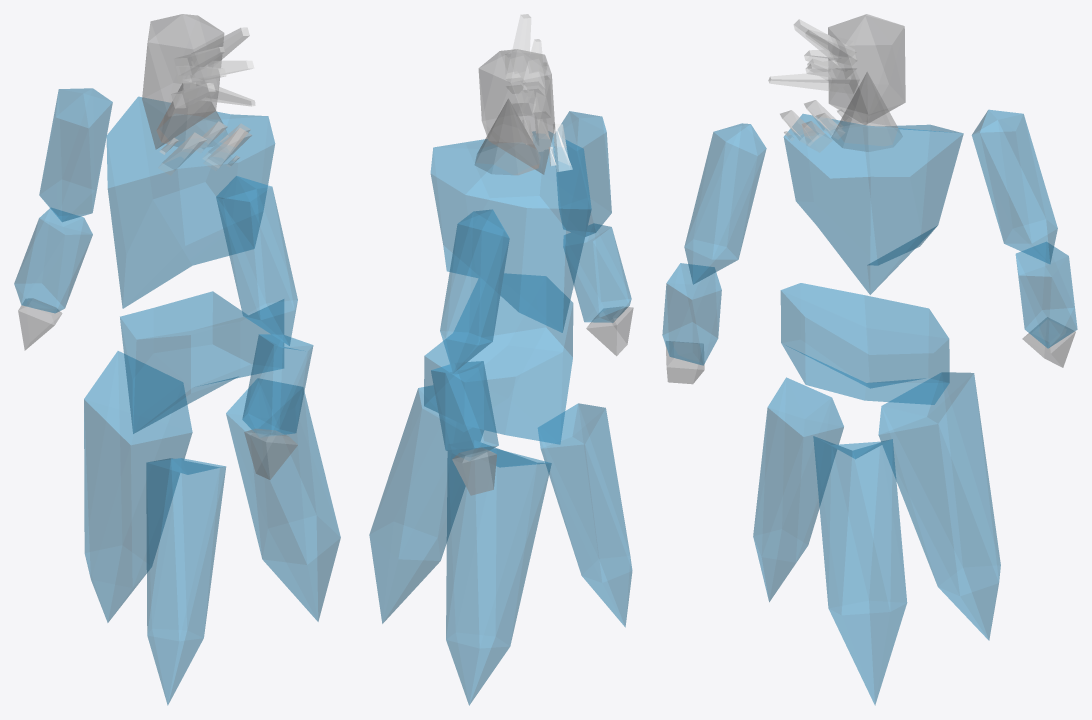
File: ghostIdle4.obj
The picture shows the model from 3 angles, left to right: view 1: azimuth 30°, elevation 25°; view 2: azimuth 150°, elevation 25°; view 3: azimuth 270°, elevation 25°; orthographic projection. The views are drawn at different scales.
Visible parts, largest first — view 1: Cube.001_Cube.001, Icosphere.005, Icosphere.004, Cube_Cube.002, Icosphere.003, Icosphere.005_Icosphere.001, Icosphere.003_Icosphere.001, Icosphere.007_Icosphere.001, Icosphere.006_Icosphere.001, Icosphere.008_Icosphere.001, Cone_Cone.002, Cube.002_Cube.001 (+8 smaller); view 2: Cube.001_Cube.001, Cube_Cube.002, Icosphere.005, Icosphere.004, Icosphere.003, Icosphere.007_Icosphere.001, Icosphere.003_Icosphere.001, Icosphere.005_Icosphere.001, Icosphere.008_Icosphere.001, Icosphere.006_Icosphere.001, Cone_Cone.002, Cube.003_Cube.001 (+6 smaller); view 3: Cube.001_Cube.001, Icosphere.005, Icosphere.004, Cube_Cube.002, Icosphere.003, Icosphere.005_Icosphere.001, Icosphere.007_Icosphere.001, Icosphere.003_Icosphere.001, Icosphere.006_Icosphere.001, Icosphere.008_Icosphere.001, Cone_Cone.002, Cube.003_Cube.001 (+4 smaller).
Boxes of the visible parts, x1,y1,x2,y2 form: Cube.001_Cube.001: [106, 96, 275, 308]; Icosphere.005: [84, 351, 192, 622]; Icosphere.004: [226, 378, 340, 621]; Cube_Cube.002: [120, 291, 283, 433]; Icosphere.003: [146, 458, 225, 705]; Icosphere.005_Icosphere.001: [216, 176, 297, 345]; Icosphere.003_Icosphere.001: [142, 14, 224, 149]; Icosphere.007_Icosphere.001: [39, 88, 112, 221]; Icosphere.006_Icosphere.001: [242, 334, 313, 437]; Icosphere.008_Icosphere.001: [14, 208, 92, 313]; Cone_Cone.002: [157, 83, 227, 147]; Cube.002_Cube.001: [244, 429, 297, 479]; Cube.001_Cube.001: [430, 131, 591, 332]; Cube_Cube.002: [424, 273, 573, 444]; Icosphere.005: [446, 440, 551, 705]; Icosphere.004: [369, 385, 483, 623]; Icosphere.003: [538, 403, 632, 627]; Icosphere.007_Icosphere.001: [440, 209, 509, 372]; Icosphere.003_Icosphere.001: [478, 49, 554, 174]; Icosphere.005_Icosphere.001: [555, 111, 611, 236]; Icosphere.008_Icosphere.001: [431, 361, 498, 460]; Icosphere.006_Icosphere.001: [563, 223, 631, 322]; Cone_Cone.002: [475, 99, 538, 175]; Cube.003_Cube.001: [452, 447, 496, 495]; Cube.001_Cube.001: [783, 114, 963, 294]; Icosphere.005: [878, 372, 1000, 640]; Icosphere.004: [813, 436, 907, 705]; Cube_Cube.002: [780, 283, 949, 404]; Icosphere.003: [753, 377, 843, 601]; Icosphere.005_Icosphere.001: [684, 123, 766, 284]; Icosphere.007_Icosphere.001: [972, 109, 1057, 263]; Icosphere.003_Icosphere.001: [828, 14, 905, 124]; Icosphere.006_Icosphere.001: [662, 263, 721, 365]; Icosphere.008_Icosphere.001: [1015, 242, 1077, 348]; Cone_Cone.002: [831, 72, 902, 151]; Cube.003_Cube.001: [1022, 317, 1075, 367].
Size of the model in its own units: 17.02 by 47.59 by 28.04.
